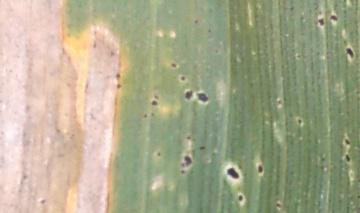tarspot: (225, 166, 240, 179), (196, 90, 210, 103), (344, 45, 356, 58), (180, 155, 192, 167), (317, 15, 327, 26), (184, 88, 193, 100), (256, 163, 264, 174), (114, 71, 122, 80), (275, 98, 283, 107), (329, 14, 338, 22), (149, 99, 159, 106), (38, 198, 47, 205), (343, 137, 350, 146), (345, 153, 352, 162), (115, 82, 123, 89), (170, 62, 178, 69), (155, 150, 162, 157), (180, 75, 187, 82), (236, 194, 243, 201), (296, 118, 303, 125), (192, 17, 198, 25), (154, 94, 160, 101), (198, 145, 206, 150), (143, 113, 149, 119), (180, 169, 186, 175), (276, 201, 281, 208), (187, 135, 191, 140)
